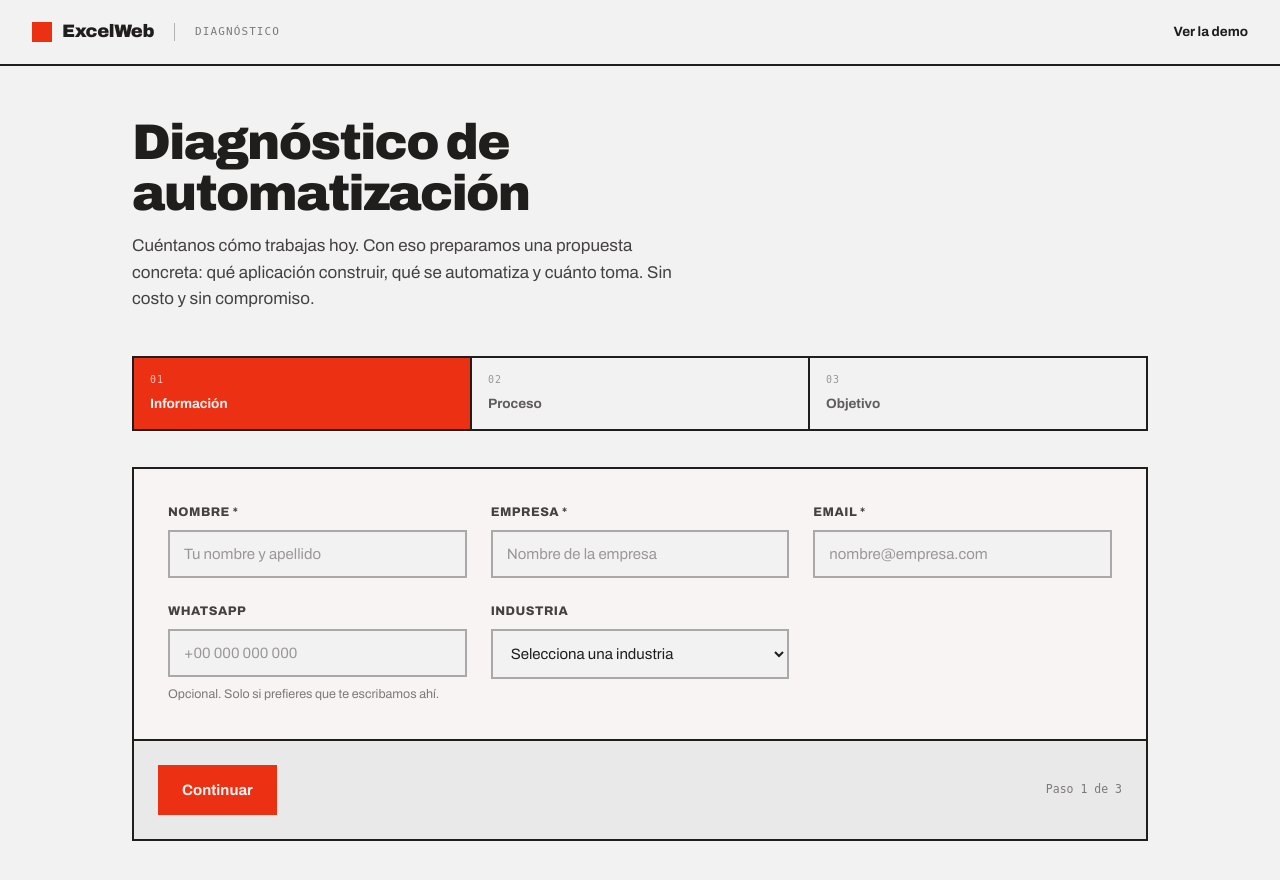
Diagnostico form › shows a clear error message and stays on the form when the API rejects the submission
The width and height of the screenshot is (1280, 880).
Type "Ana Torres" into the field labelled "Nombre *" at (317, 554), box [168,530,467,578]
Type "Ferretería Andes" into the field labelled "Empresa *" at (640, 554), box [491,530,789,578]
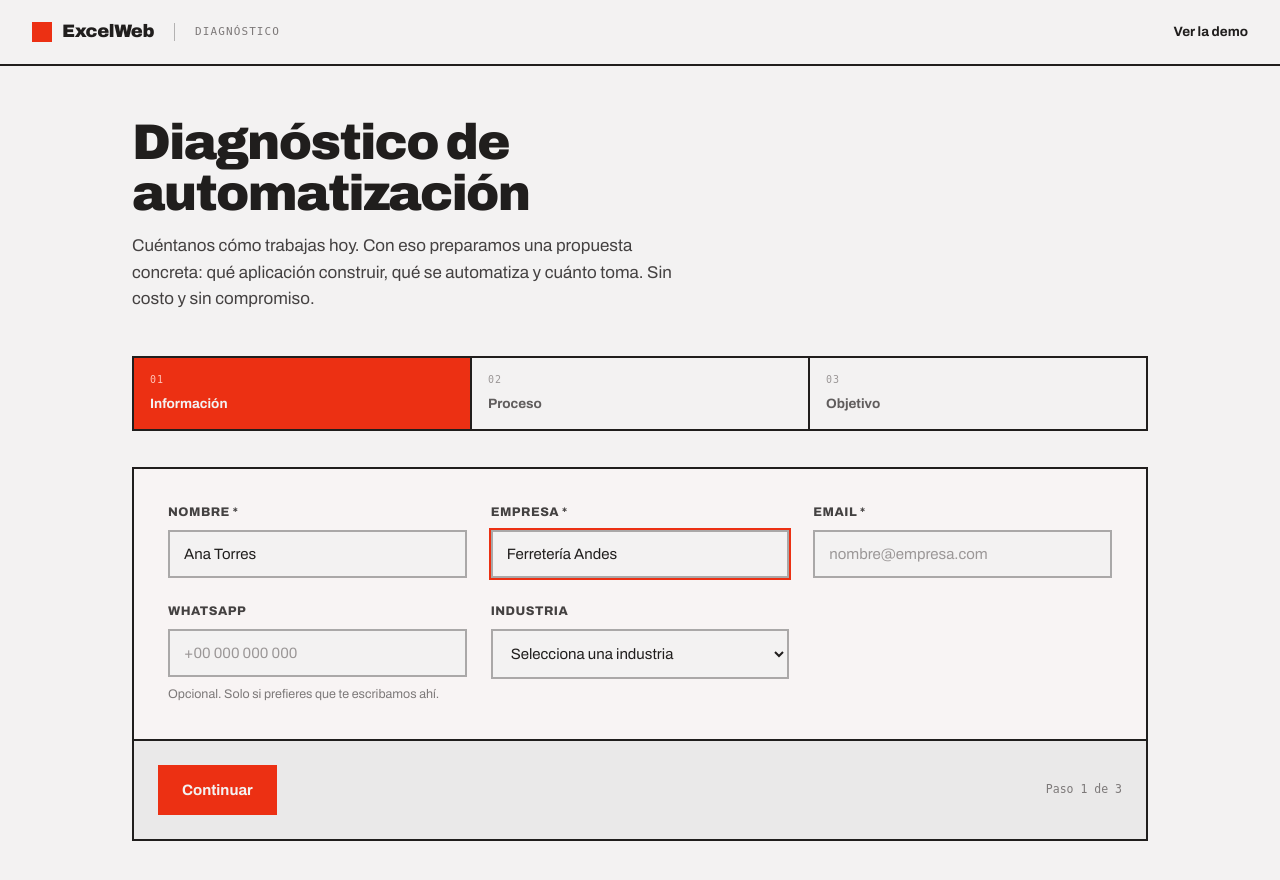
Type "ana@andes.cl" into the field labelled "Email *" at (963, 554), box [813,530,1112,578]
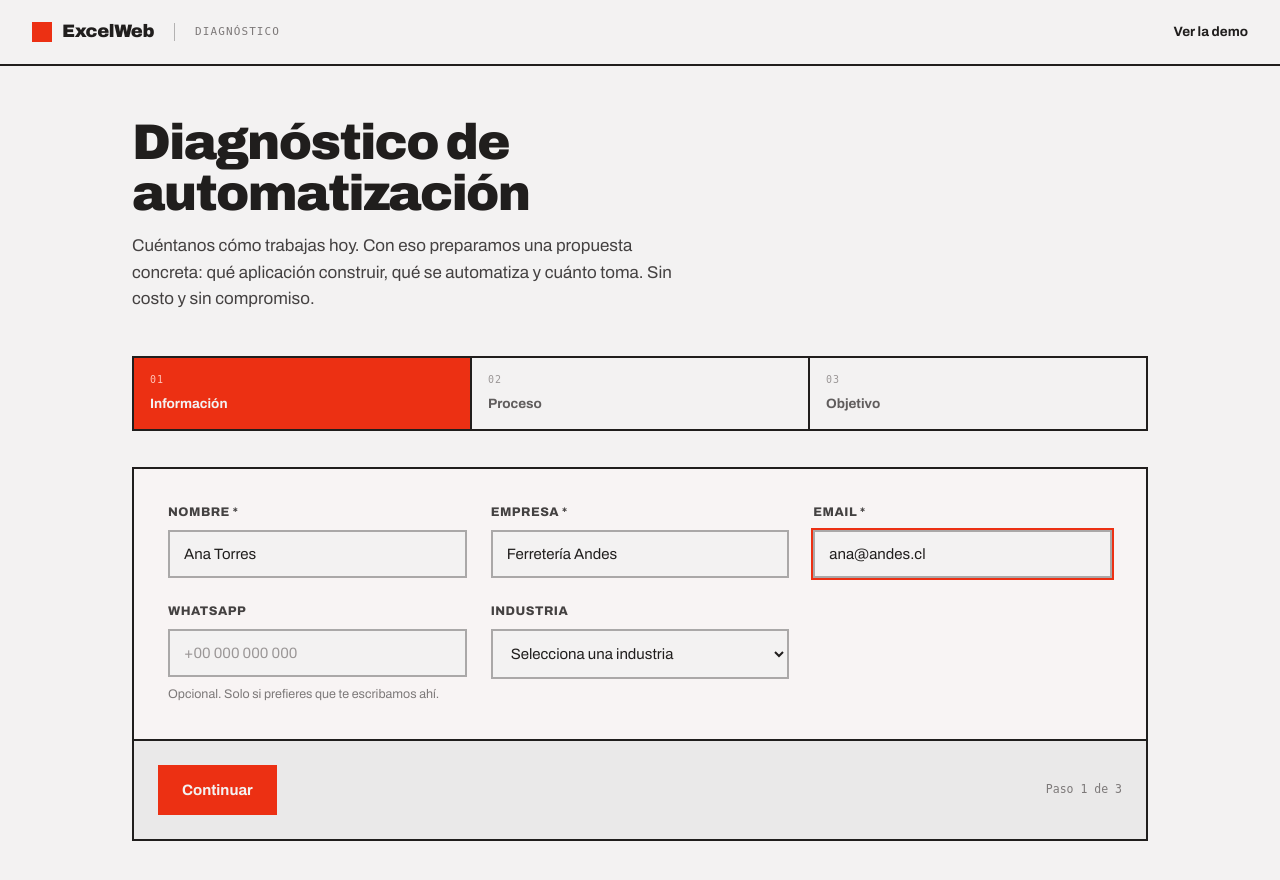
Click the button "Continuar" at (217, 790), box [158,765,277,815]
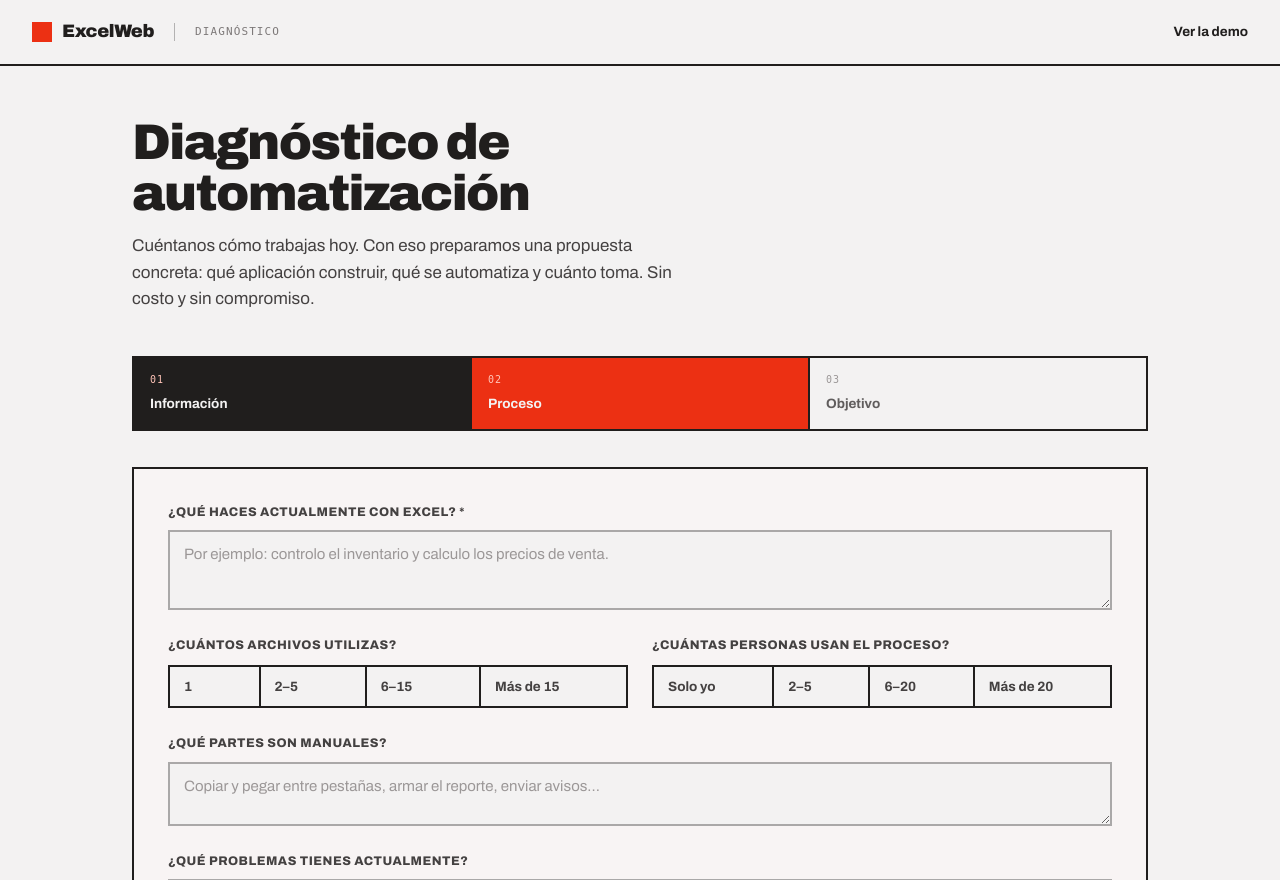
Type "Controlo el inventario en Excel." into the text box labelled "¿Qué haces actualmente con Excel? *" at (640, 570), box [168,530,1112,610]
(page scrolled)
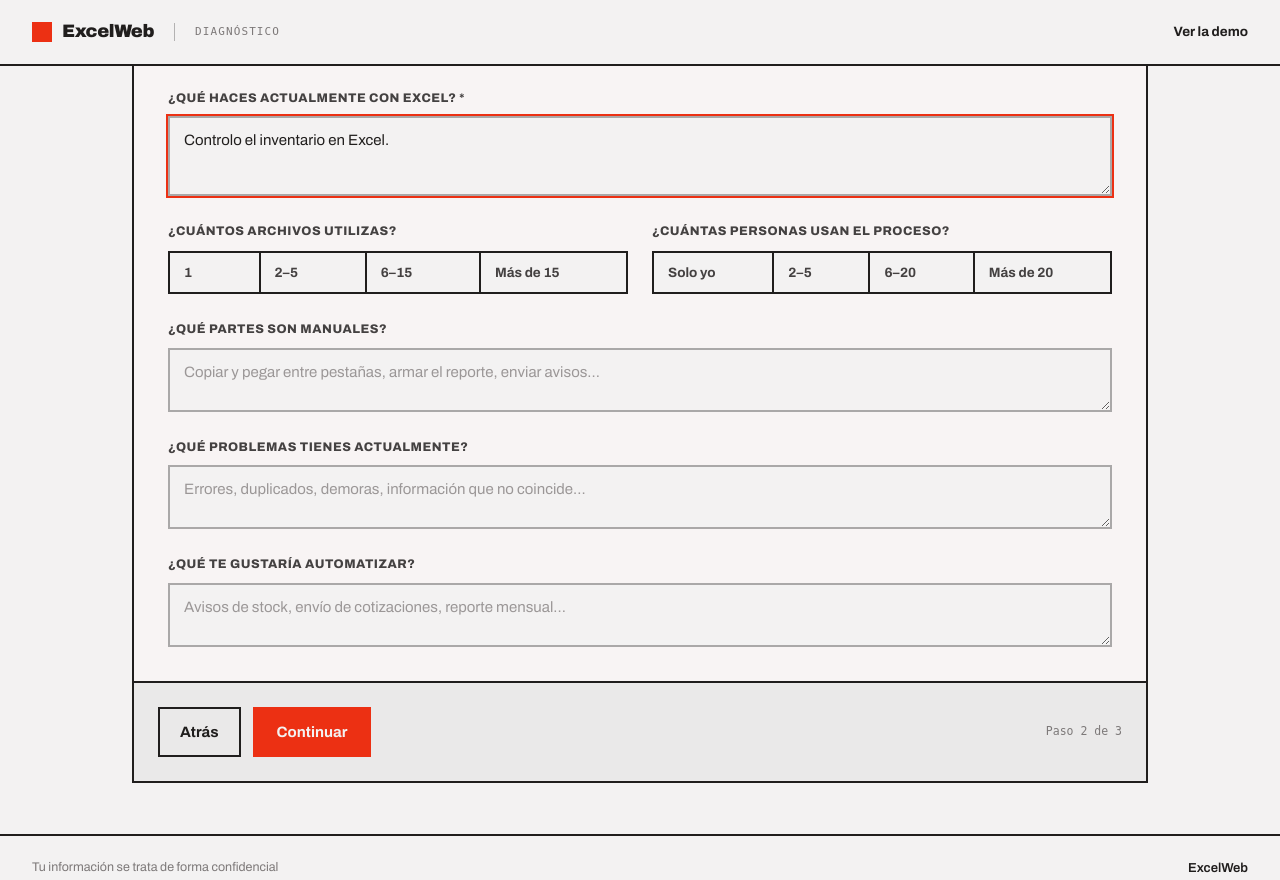
Click the button "Continuar" at (312, 732), box [253,706,371,756]
(page scrolled)
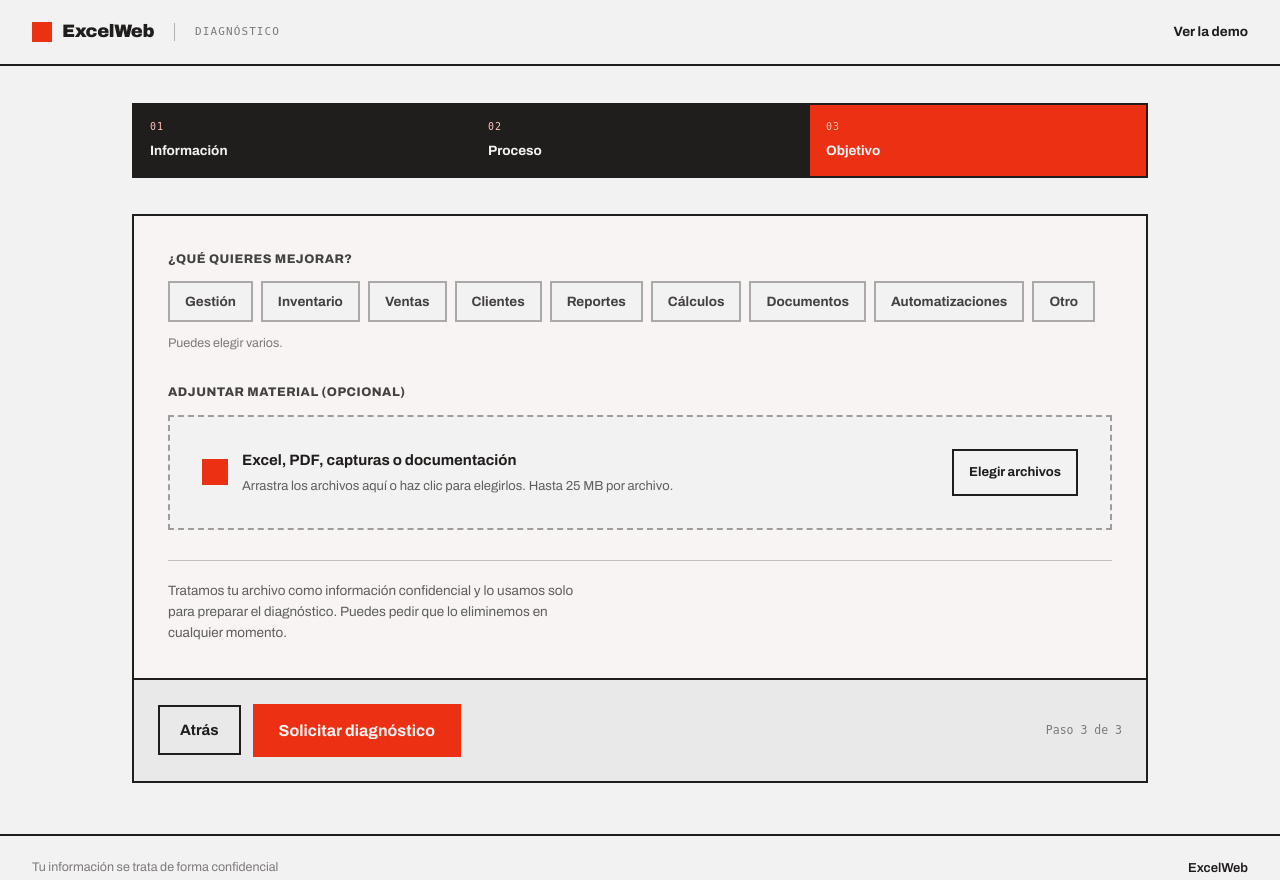
Click the button "Solicitar diagnóstico" at (357, 730), box [253,704,461,757]
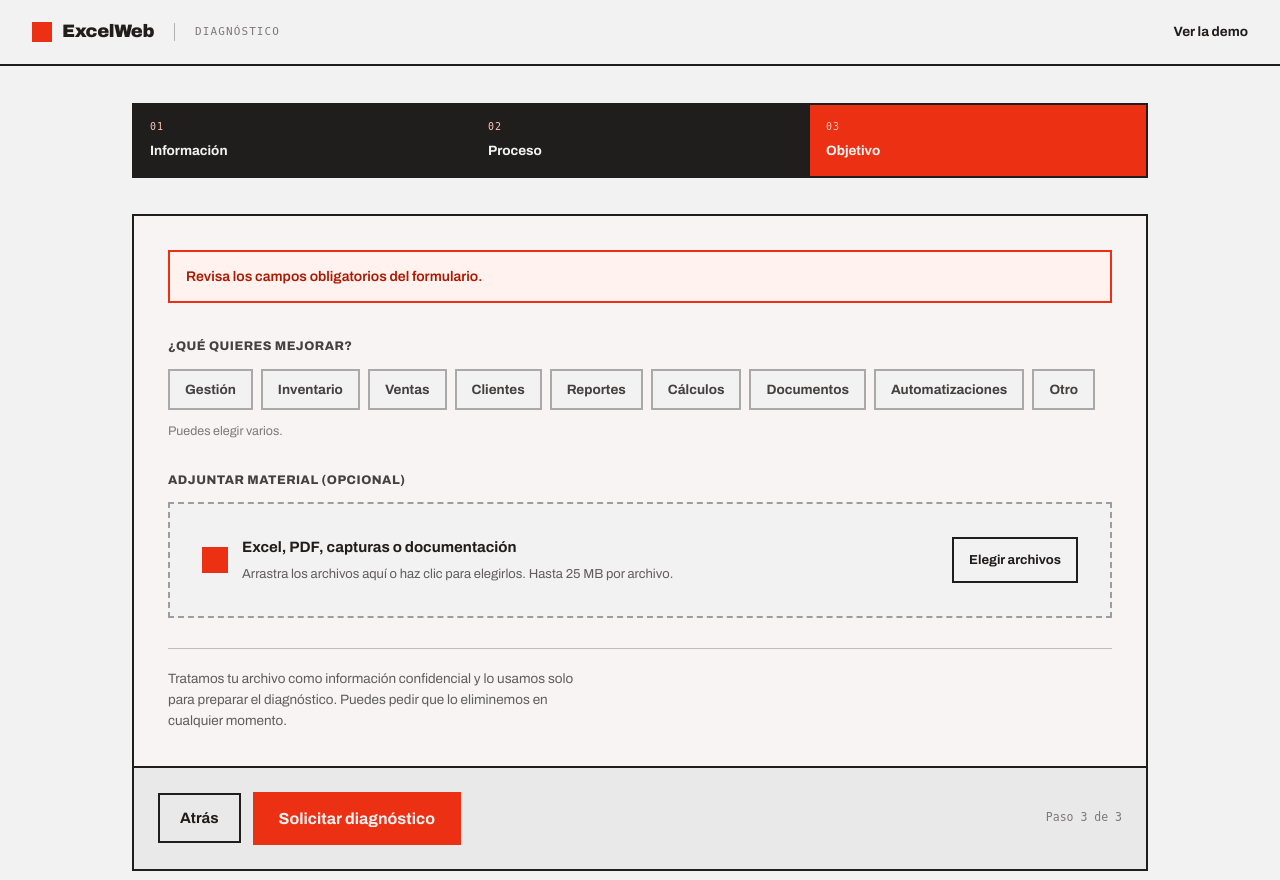
Now the text "Revisa los campos obligatorios del formulario." is shown, box [168,250,1112,303]
